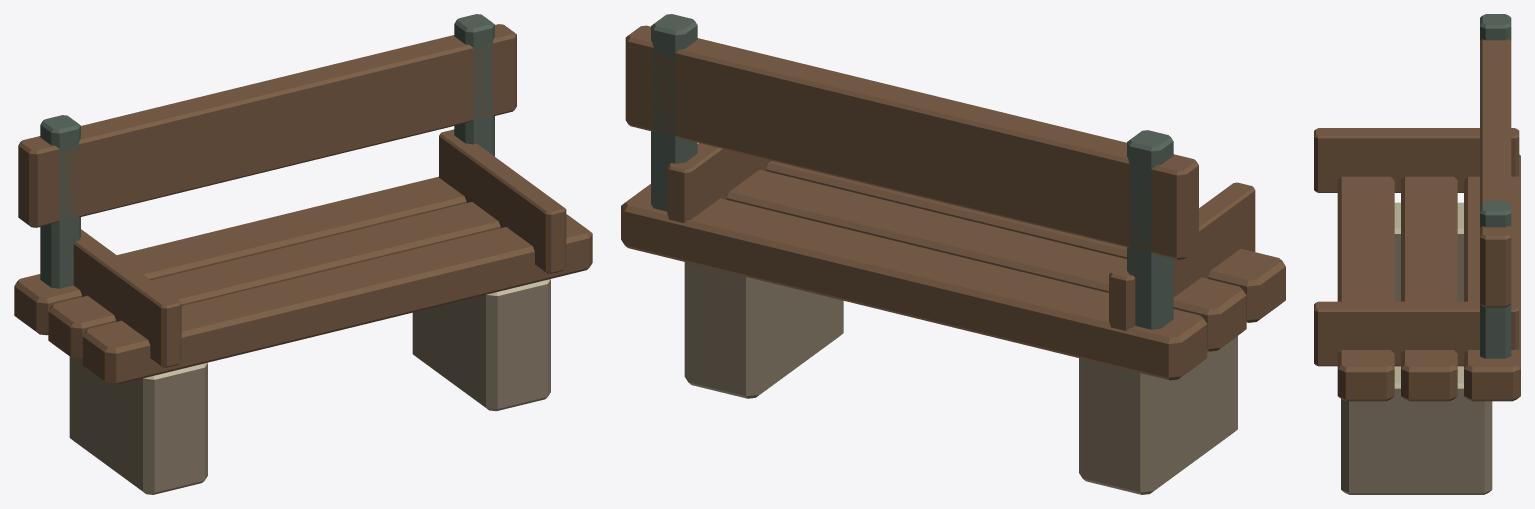
Rendered from garden-bench.glb.
3 renders of one model, left to right at view 1: azimuth 30°, elevation 25°; view 2: azimuth 150°, elevation 25°; view 3: azimuth 270°, elevation 25°, orthographic. The views are drawn at different scales.
Visible parts, largest first — view 1: garden-bench__body; view 2: garden-bench__body; view 3: garden-bench__body.
Part boxes in pixels (left/top/right/bottom): garden-bench__body: left=14, top=14, right=592, bottom=494; garden-bench__body: left=621, top=14, right=1285, bottom=494; garden-bench__body: left=1314, top=14, right=1520, bottom=494.
Bounding box in the file's own units: 1.65 × 1.02 × 0.655.
